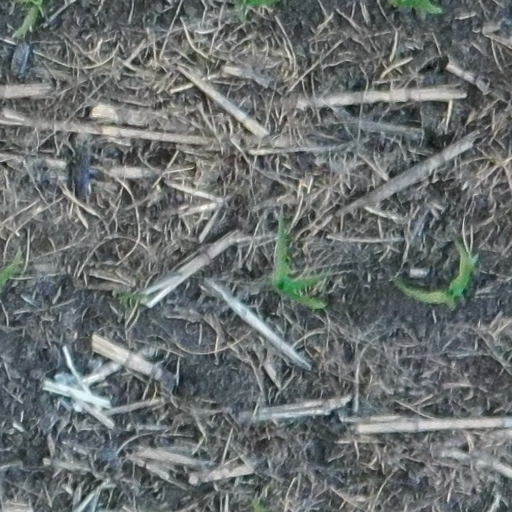planta: (270, 210, 331, 308), (395, 238, 479, 305)
